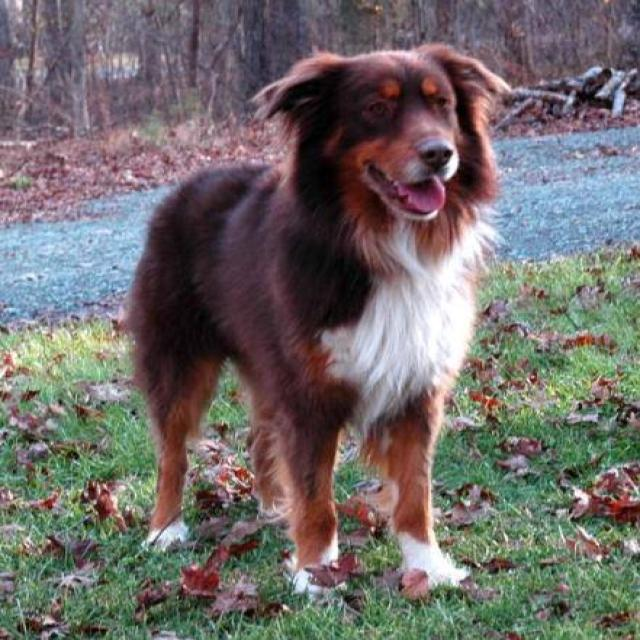dog: (115, 41, 512, 603)
